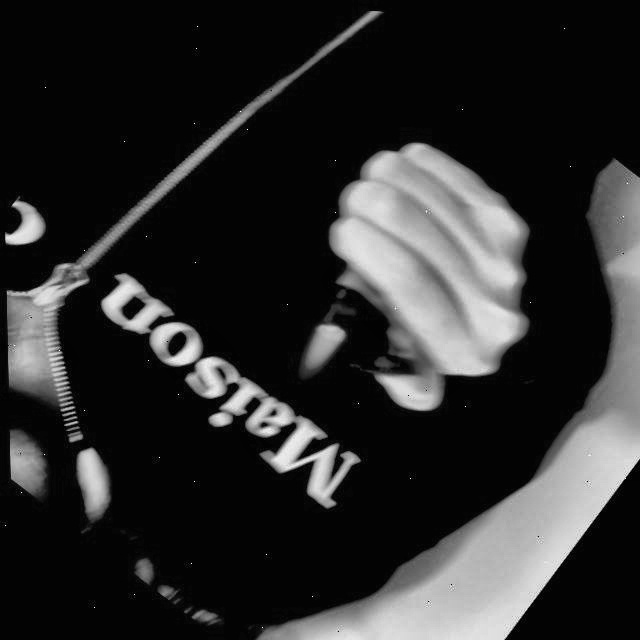Fire: (279, 310, 349, 387)
